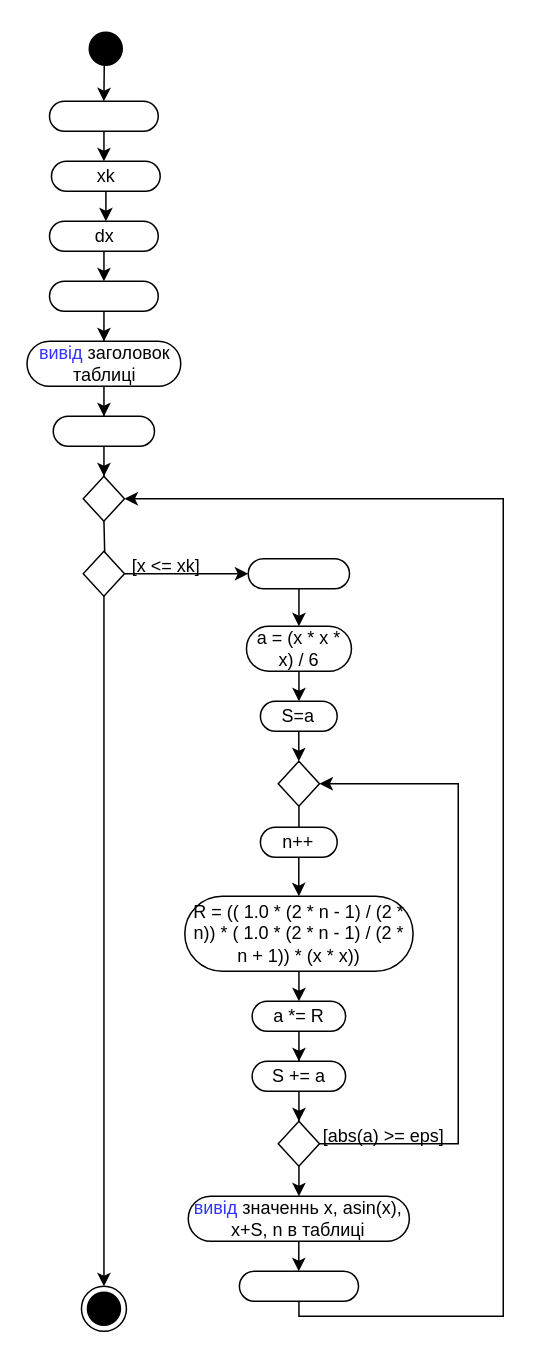
This 542x1358 diagram has some shape labels left out. The shapes that lost their labels are listed below. From the top down, each one's centre as x and y in pixels, then its label:
At pixel 103 115: "xp".
At pixel 103 295: "eps".
At pixel 103 430: "x = xp".
At pixel 298 573: "n = 1".
At pixel 298 1285: "x += dx".
